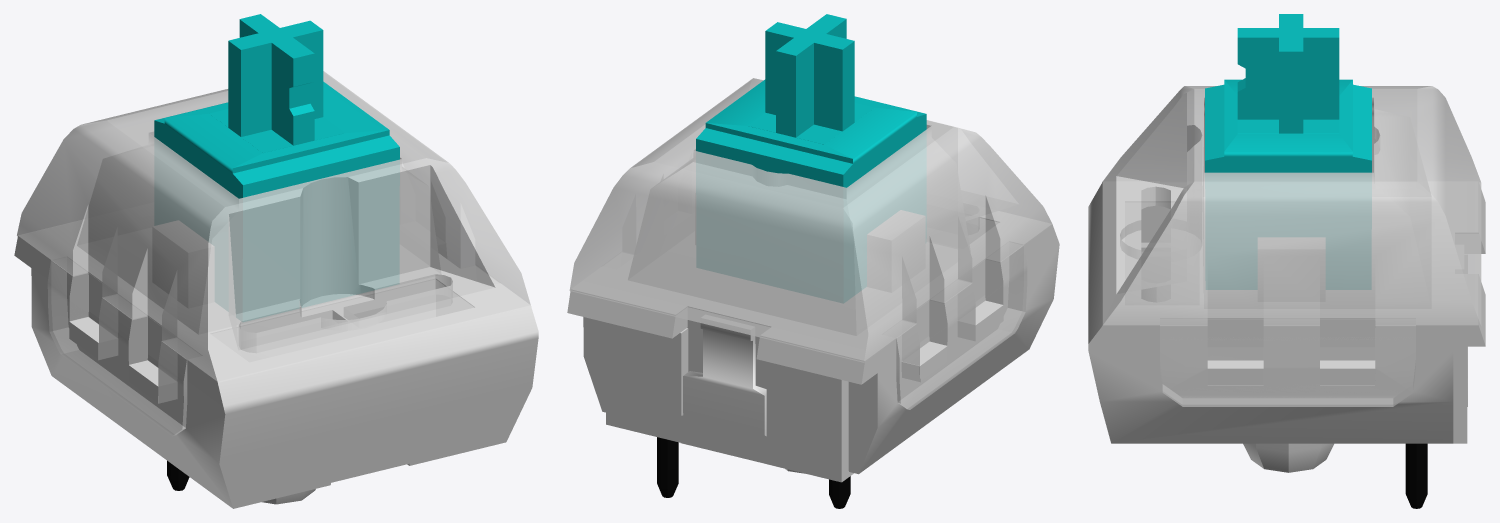
Rendered from switch.fbx.
The picture shows the model from 3 angles, left to right: view 1: azimuth 30°, elevation 25°; view 2: azimuth 150°, elevation 25°; view 3: azimuth 270°, elevation 25°; orthographic projection. The views are drawn at different scales.
Visible parts, largest first — view 1: topHousing, baseHousing, stem3; view 2: topHousing, baseHousing, stem3, legs; view 3: topHousing, baseHousing, stem3, legs.
Boxes of the visible parts, x1,y1,x2,y2 form: topHousing: (17, 71, 531, 436); baseHousing: (14, 220, 538, 508); stem3: (154, 14, 399, 321); topHousing: (569, 78, 1052, 409); baseHousing: (567, 193, 1059, 482); stem3: (696, 14, 926, 302); legs: (657, 437, 850, 508); topHousing: (1102, 86, 1481, 406); baseHousing: (1088, 181, 1485, 472); stem3: (1205, 14, 1371, 289); legs: (1405, 443, 1427, 508).
Size of the model in its own units: 1.59 by 2.19 by 1.81.
